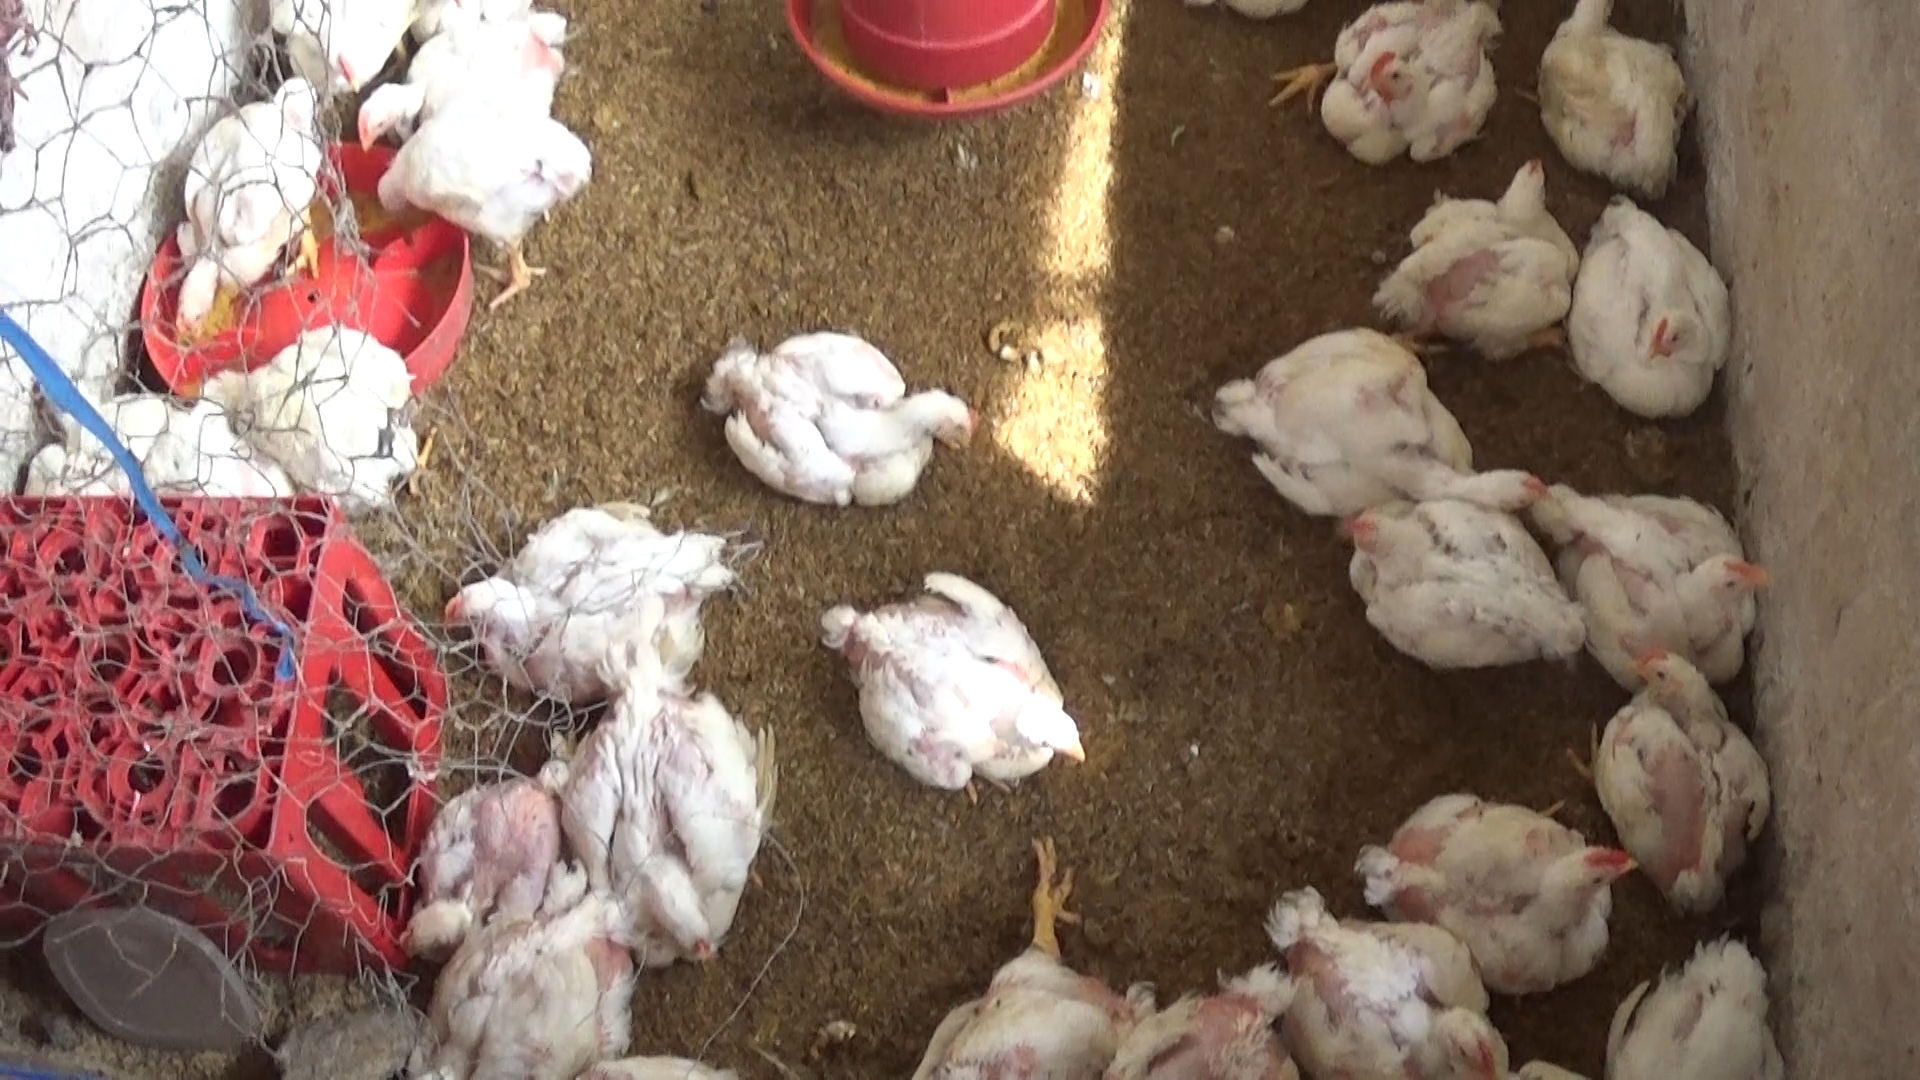Pollos: (564, 671, 791, 968), (1200, 323, 1549, 513), (833, 568, 1091, 807), (1565, 640, 1787, 914), (1360, 785, 1646, 993), (422, 504, 735, 684), (148, 71, 334, 361), (1542, 477, 1785, 687), (1259, 884, 1513, 1080), (1327, 487, 1585, 676), (407, 880, 650, 1080), (709, 334, 975, 513), (206, 320, 429, 504), (1567, 179, 1737, 418), (1352, 156, 1576, 332), (893, 924, 1126, 1080), (1294, 0, 1520, 160), (356, 1, 576, 153), (371, 123, 603, 252), (1538, 1, 1696, 189)
